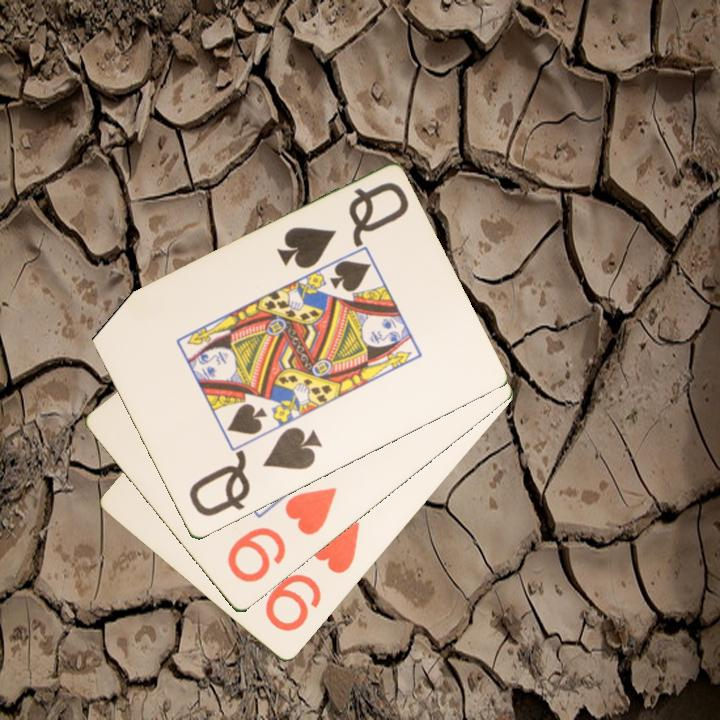9h: (223, 484, 340, 587), (261, 518, 363, 636)
Qs: (185, 423, 326, 521), (273, 179, 412, 273)
